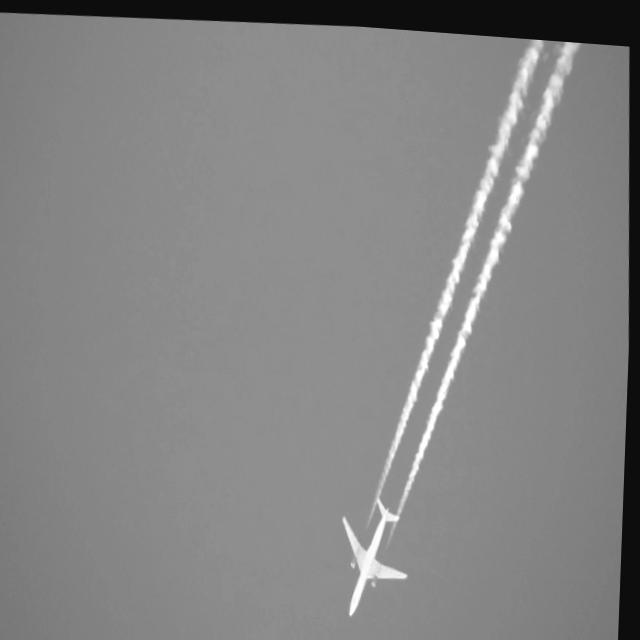aeroplane: (337, 481, 418, 620)
